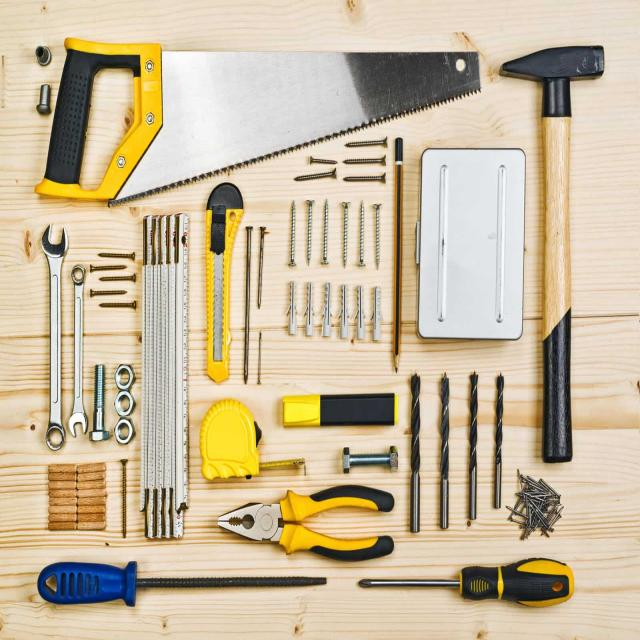Screwdriver: (38, 562, 326, 606), (359, 558, 574, 607)
